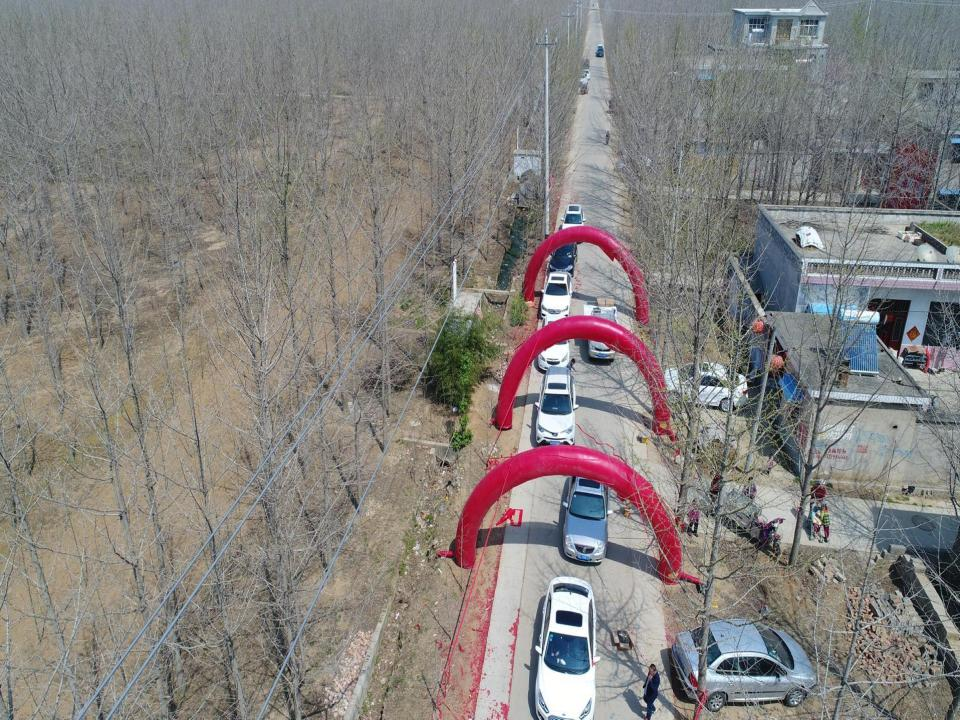car: (670, 618, 818, 710), (533, 575, 600, 719), (563, 464, 612, 568), (663, 361, 749, 413), (534, 366, 580, 452), (536, 315, 572, 372), (539, 271, 574, 320), (546, 241, 578, 277), (560, 200, 586, 244), (580, 57, 590, 71), (577, 72, 587, 85), (595, 47, 604, 59), (582, 69, 589, 81), (596, 43, 604, 53)
truck: (584, 296, 618, 363)
